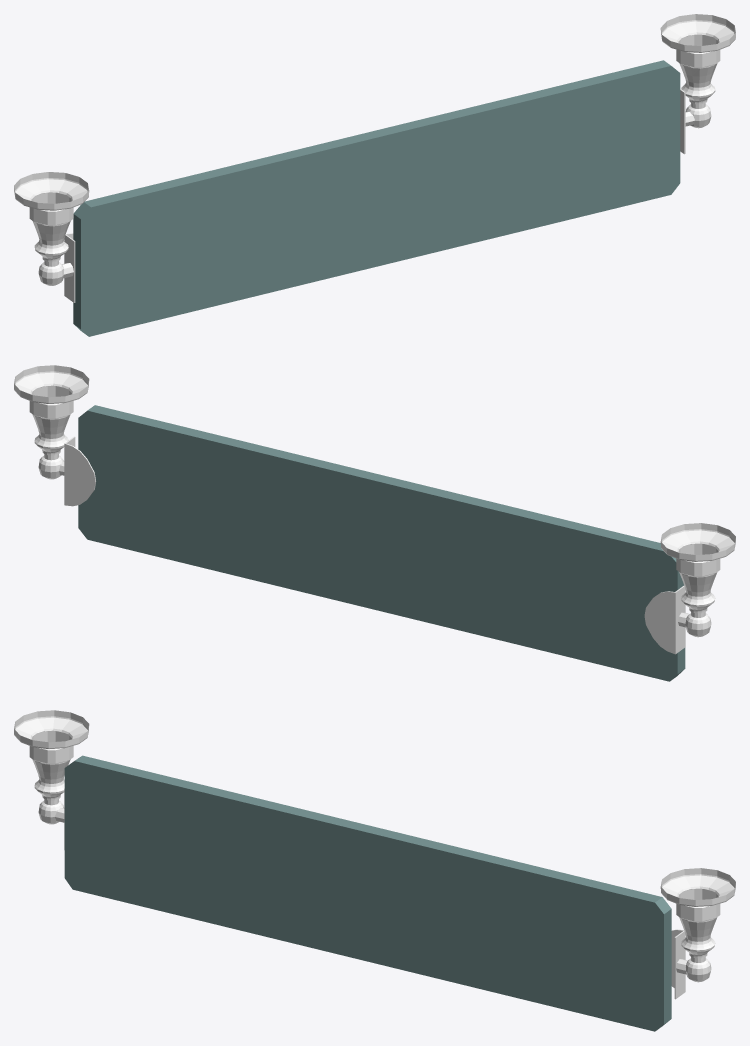
The picture shows the model from 3 angles, top to bottom: view 1: azimuth 30°, elevation 25°; view 2: azimuth 150°, elevation 25°; view 3: azimuth 330°, elevation 25°; orthographic projection.
Visible parts, largest first — view 1: k kohler antique tm glass shelf; view 2: k kohler antique tm glass shelf; view 3: k kohler antique tm glass shelf.
Boxes of the visible parts, x1,y1,x2,y2 form: k kohler antique tm glass shelf: (14,14,735,336); k kohler antique tm glass shelf: (14,365,735,681); k kohler antique tm glass shelf: (14,710,735,1031).
Size of the model in its own units: 26.99 by 5.45 by 2.5.
